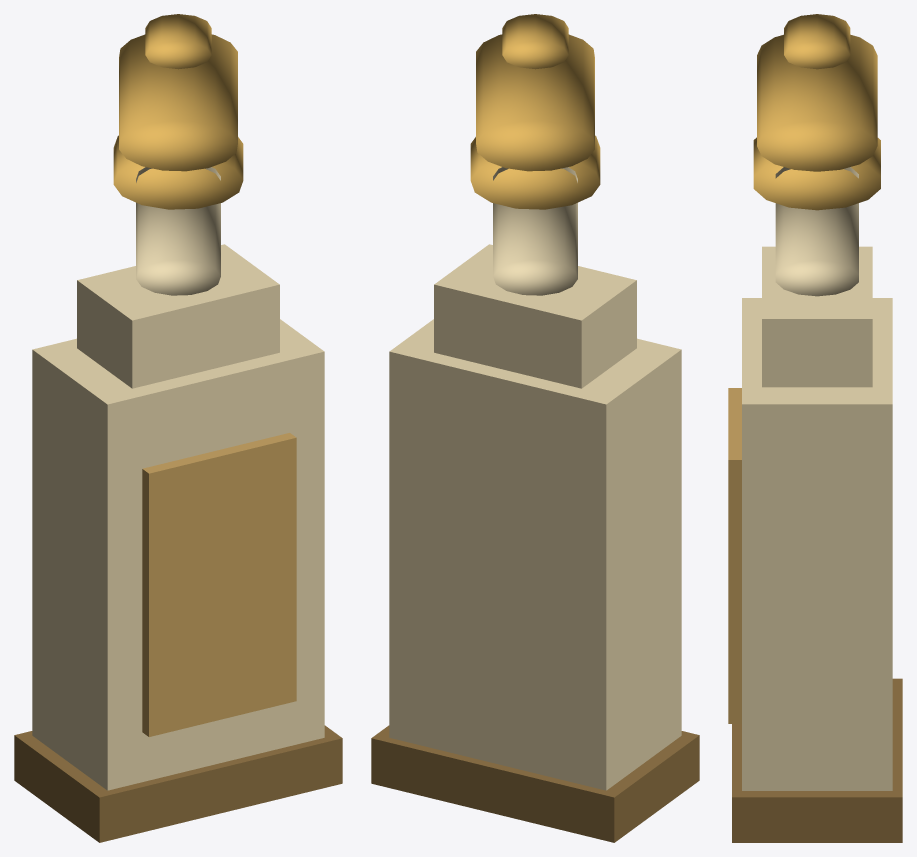
Rendered from flacon_rect.glb.
3 renders of one model, left to right at view 1: azimuth 30°, elevation 25°; view 2: azimuth 150°, elevation 25°; view 3: azimuth 270°, elevation 25°, orthographic.
Parts seen in each view (by area): view 1: flacon_rect; view 2: flacon_rect; view 3: flacon_rect.
Boxes of the visible parts, x1,y1,x2,y2 form: flacon_rect: [14, 14, 342, 842]; flacon_rect: [371, 14, 699, 842]; flacon_rect: [728, 14, 902, 842].
Bounding box in the file's own units: 0.056 × 0.166 × 0.0347.
